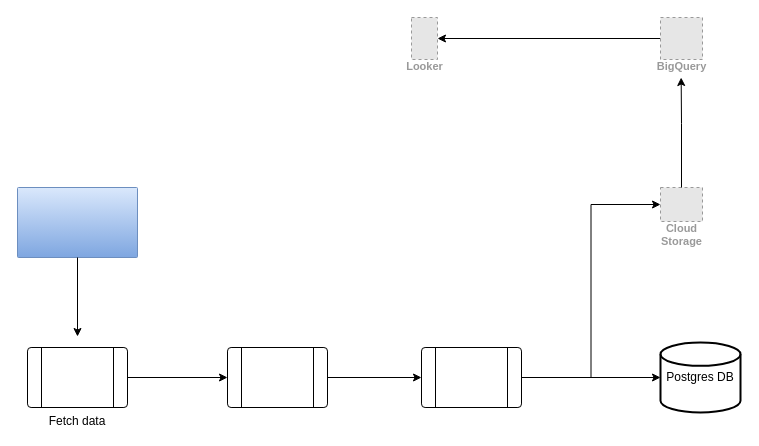
This 759x446 diagram has some shape labels left out. Grey dashed boxes stand in for pictures. The centre of each missing label's shape, as x and y in pixels:
"Data cleaning" belongs at pixel 277 377.
"External Data Sources: GitHub release" belongs at pixel 77 222.
"Insert into a .csv" belongs at pixel 471 377.
